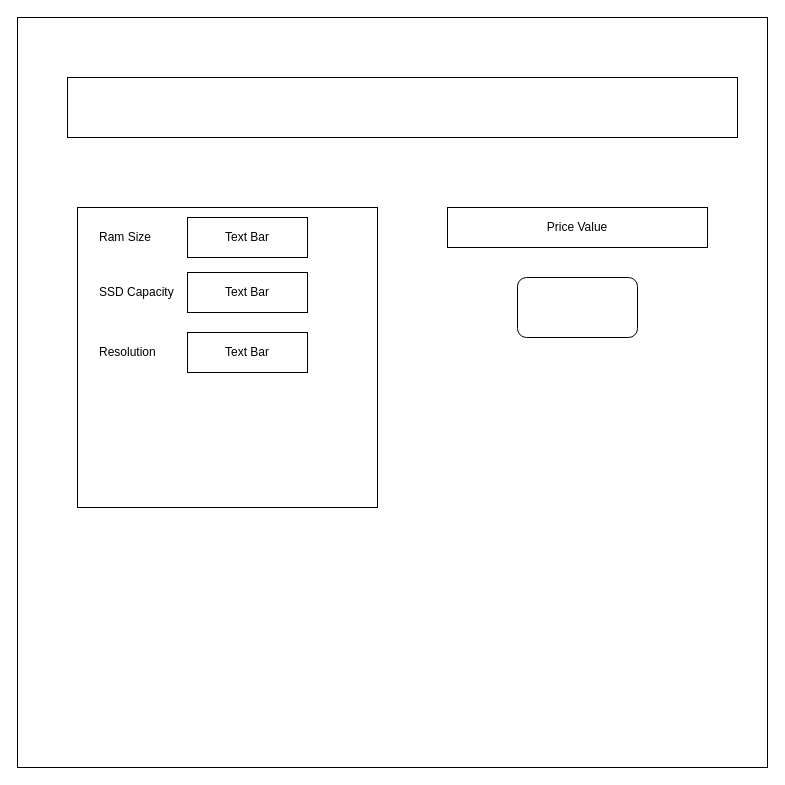
This 785x785 diagram has some shape labels left out. The shapes that lost their labels are listed below. From the top down, each one's box as (x1, y1, x2, y2) in pixels, then its label:
(66, 76, 738, 138): Laptop Price Predictor
(516, 276, 638, 338): 984.5 EUR
